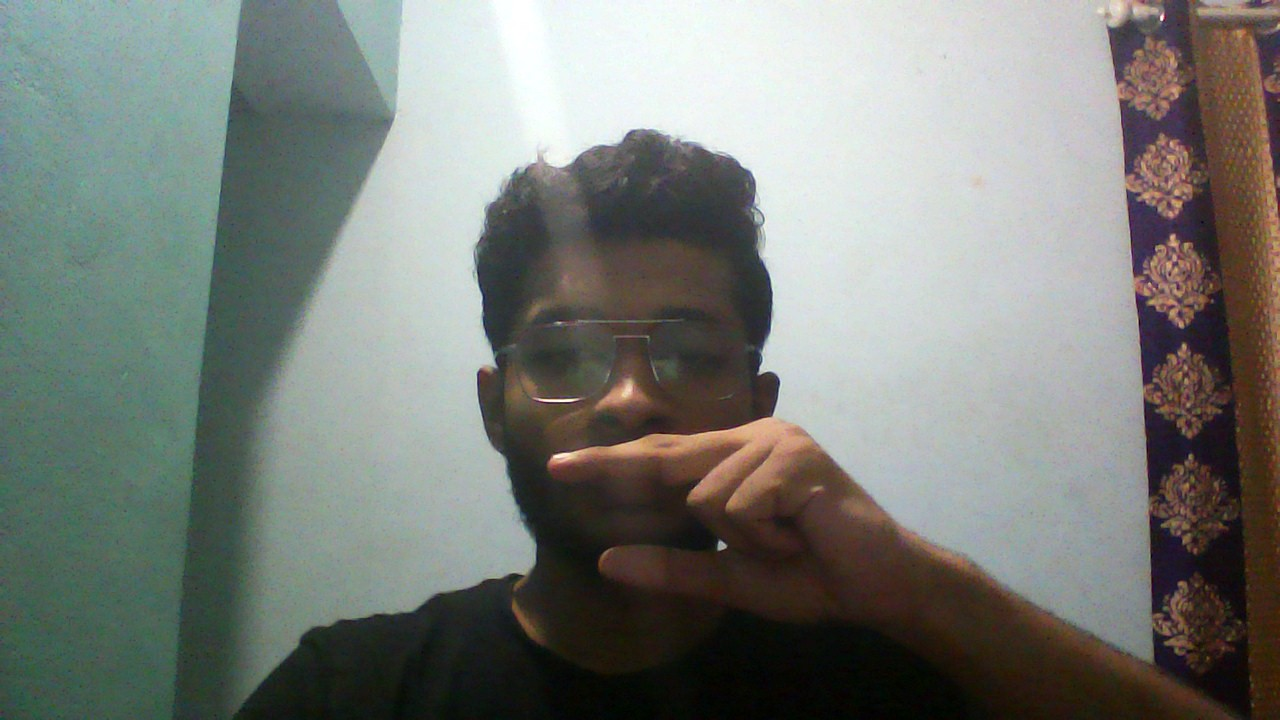No: (542, 414, 892, 631)
